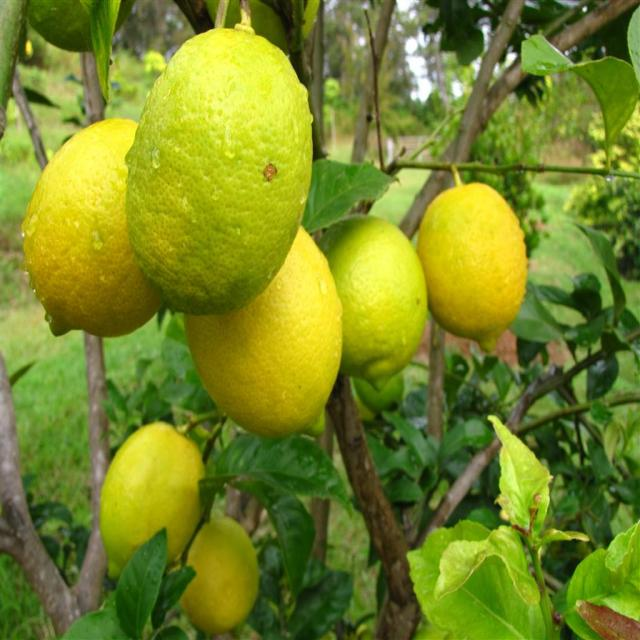lemon: (136, 27, 313, 286), (25, 118, 124, 349), (198, 306, 344, 444), (426, 182, 530, 352), (336, 210, 429, 384), (97, 420, 205, 543), (185, 520, 262, 640)
